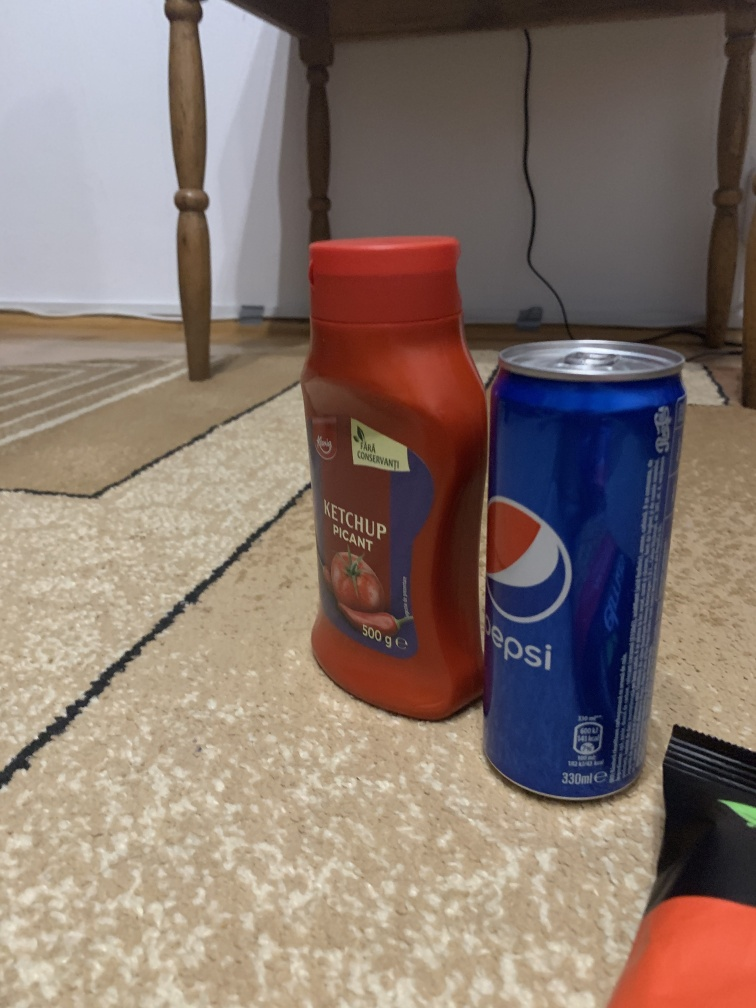ketchup: (296, 234, 481, 731)
peanuts: (599, 731, 755, 1008)
pepsi: (481, 336, 683, 805)
